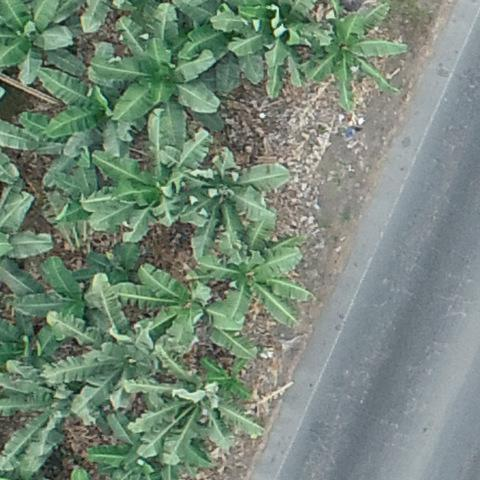Banana-plant: (42, 288, 188, 422), (97, 13, 233, 132), (134, 366, 264, 469), (207, 226, 319, 340), (87, 141, 214, 240), (188, 151, 299, 259), (40, 65, 149, 170), (305, 9, 409, 112), (212, 0, 317, 98), (0, 1, 90, 89), (90, 414, 187, 480), (67, 232, 144, 294)
